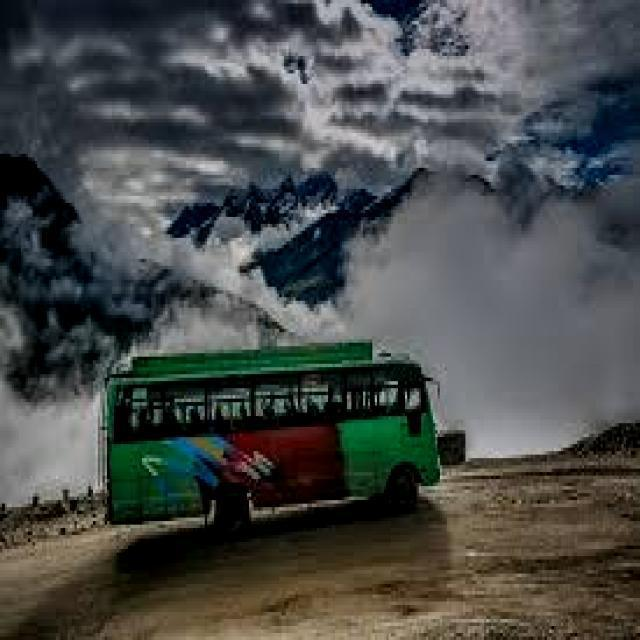Bus: (93, 324, 458, 544)
